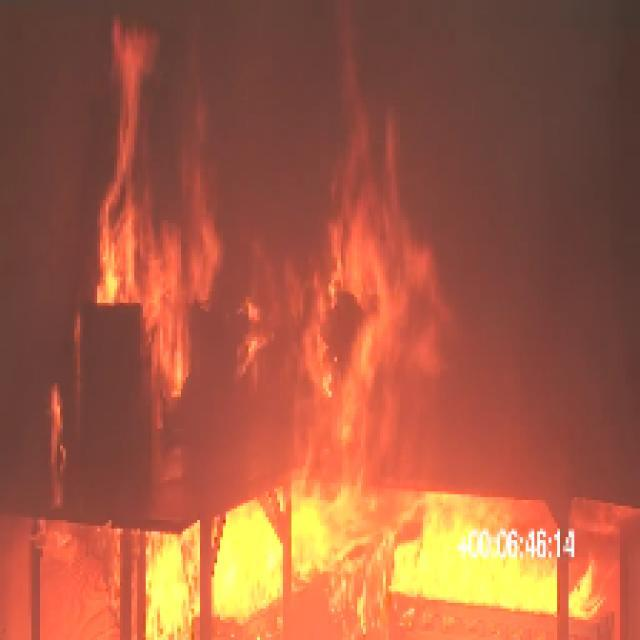Fire: (140, 514, 570, 614), (327, 247, 417, 416), (92, 234, 210, 333)
